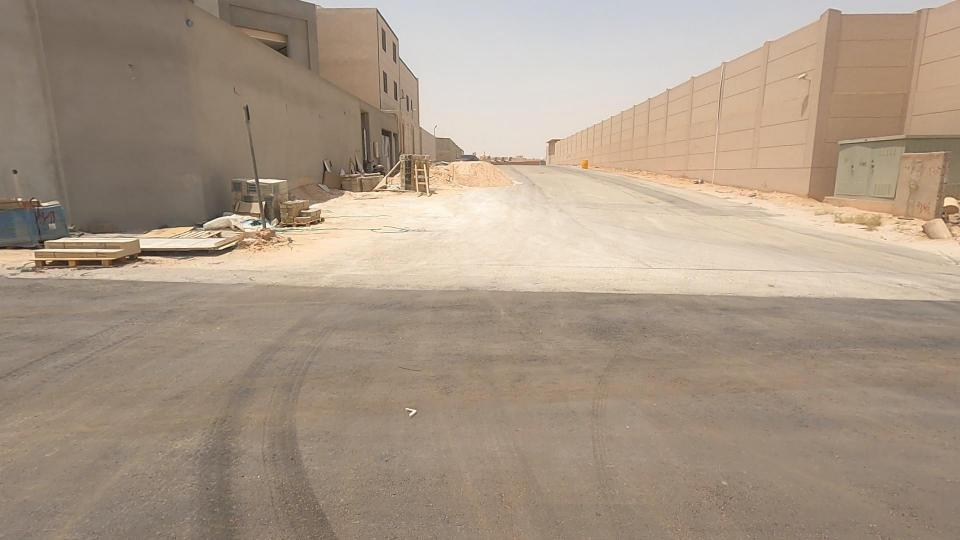GARBAGE: (284, 136, 367, 220), (321, 139, 390, 193)
